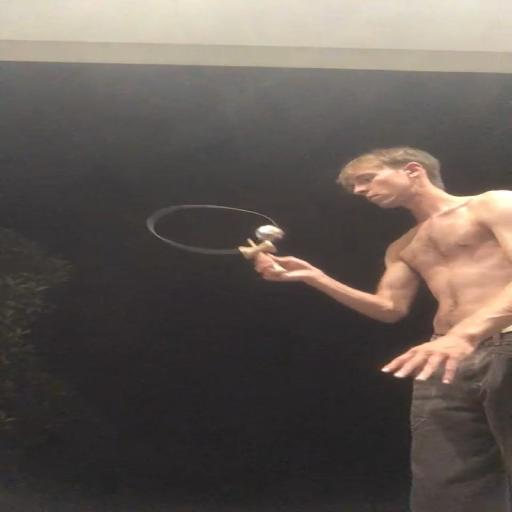kendama_ball: (255, 226, 284, 242)
